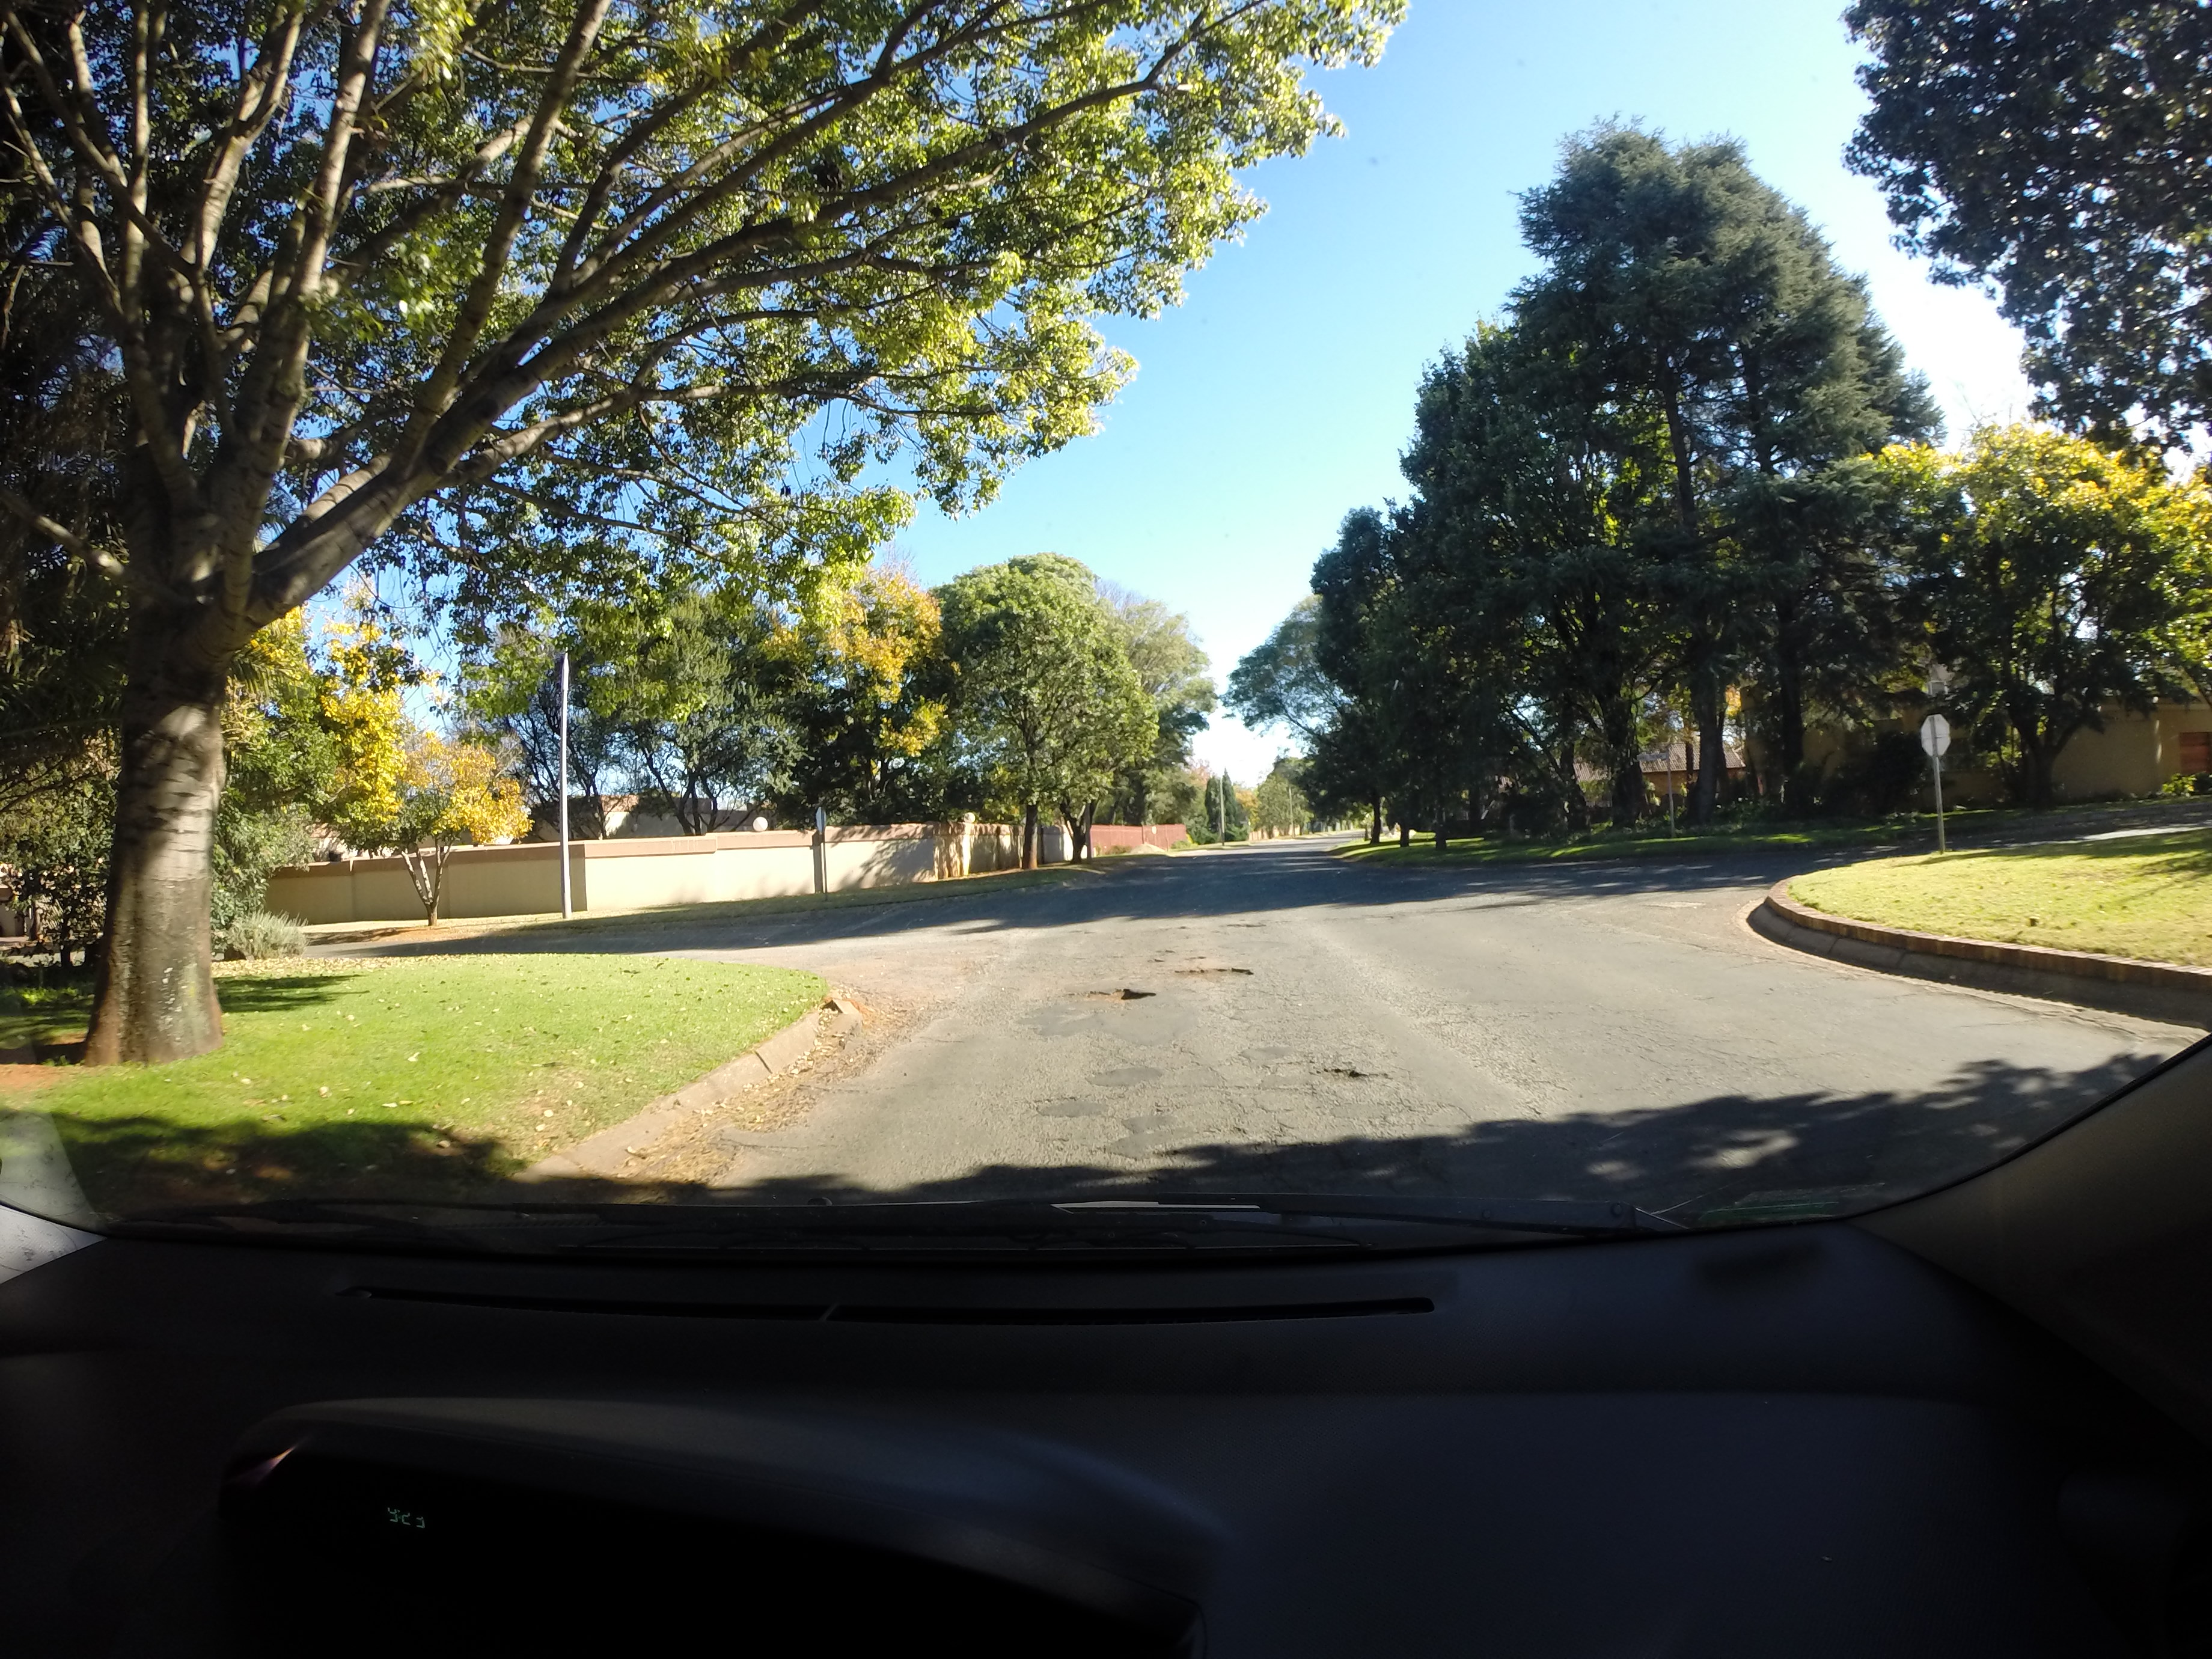pothole: (1062, 965, 1167, 1018)
